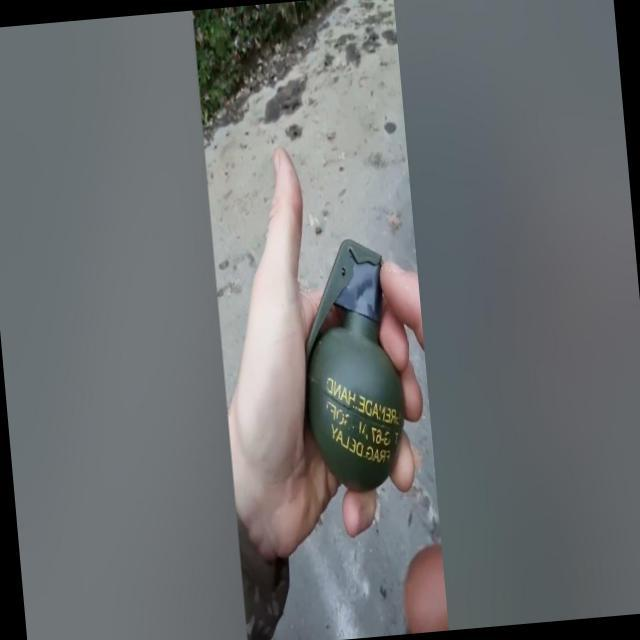grenade: (286, 240, 409, 492)
